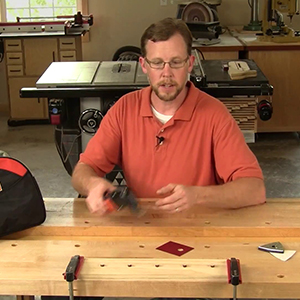person: (66, 14, 273, 223)
